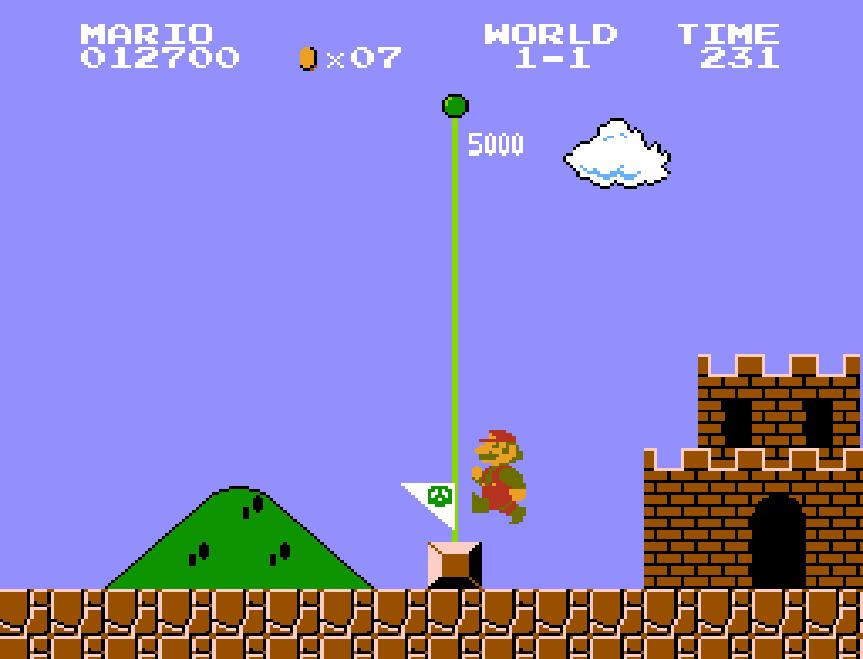big_mario: (470, 428, 528, 526)
